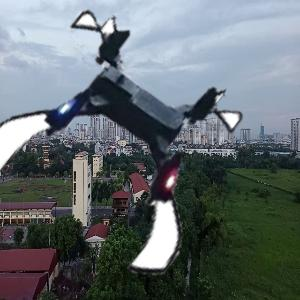drone: (5, 31, 236, 262)
